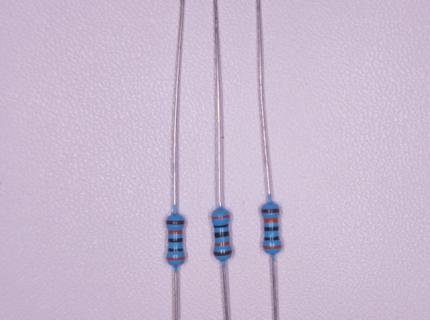Black band: (214, 231, 230, 239), (168, 247, 184, 253), (263, 226, 279, 232), (213, 224, 229, 229), (264, 236, 280, 241), (168, 238, 183, 243)
Brown band: (213, 250, 232, 256), (166, 220, 185, 225), (261, 209, 280, 214)
Orange band: (214, 241, 230, 247), (211, 215, 230, 220), (263, 245, 282, 250), (264, 217, 279, 223), (167, 256, 185, 261), (168, 229, 183, 234)
